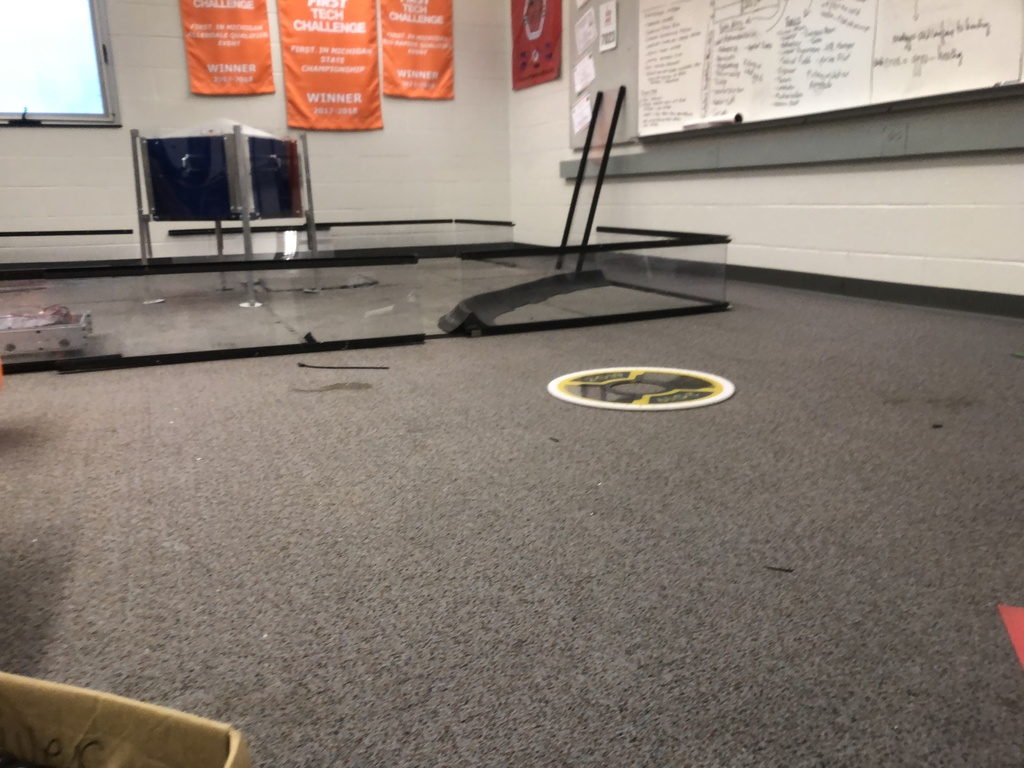hatch_panel: (540, 356, 746, 422)
